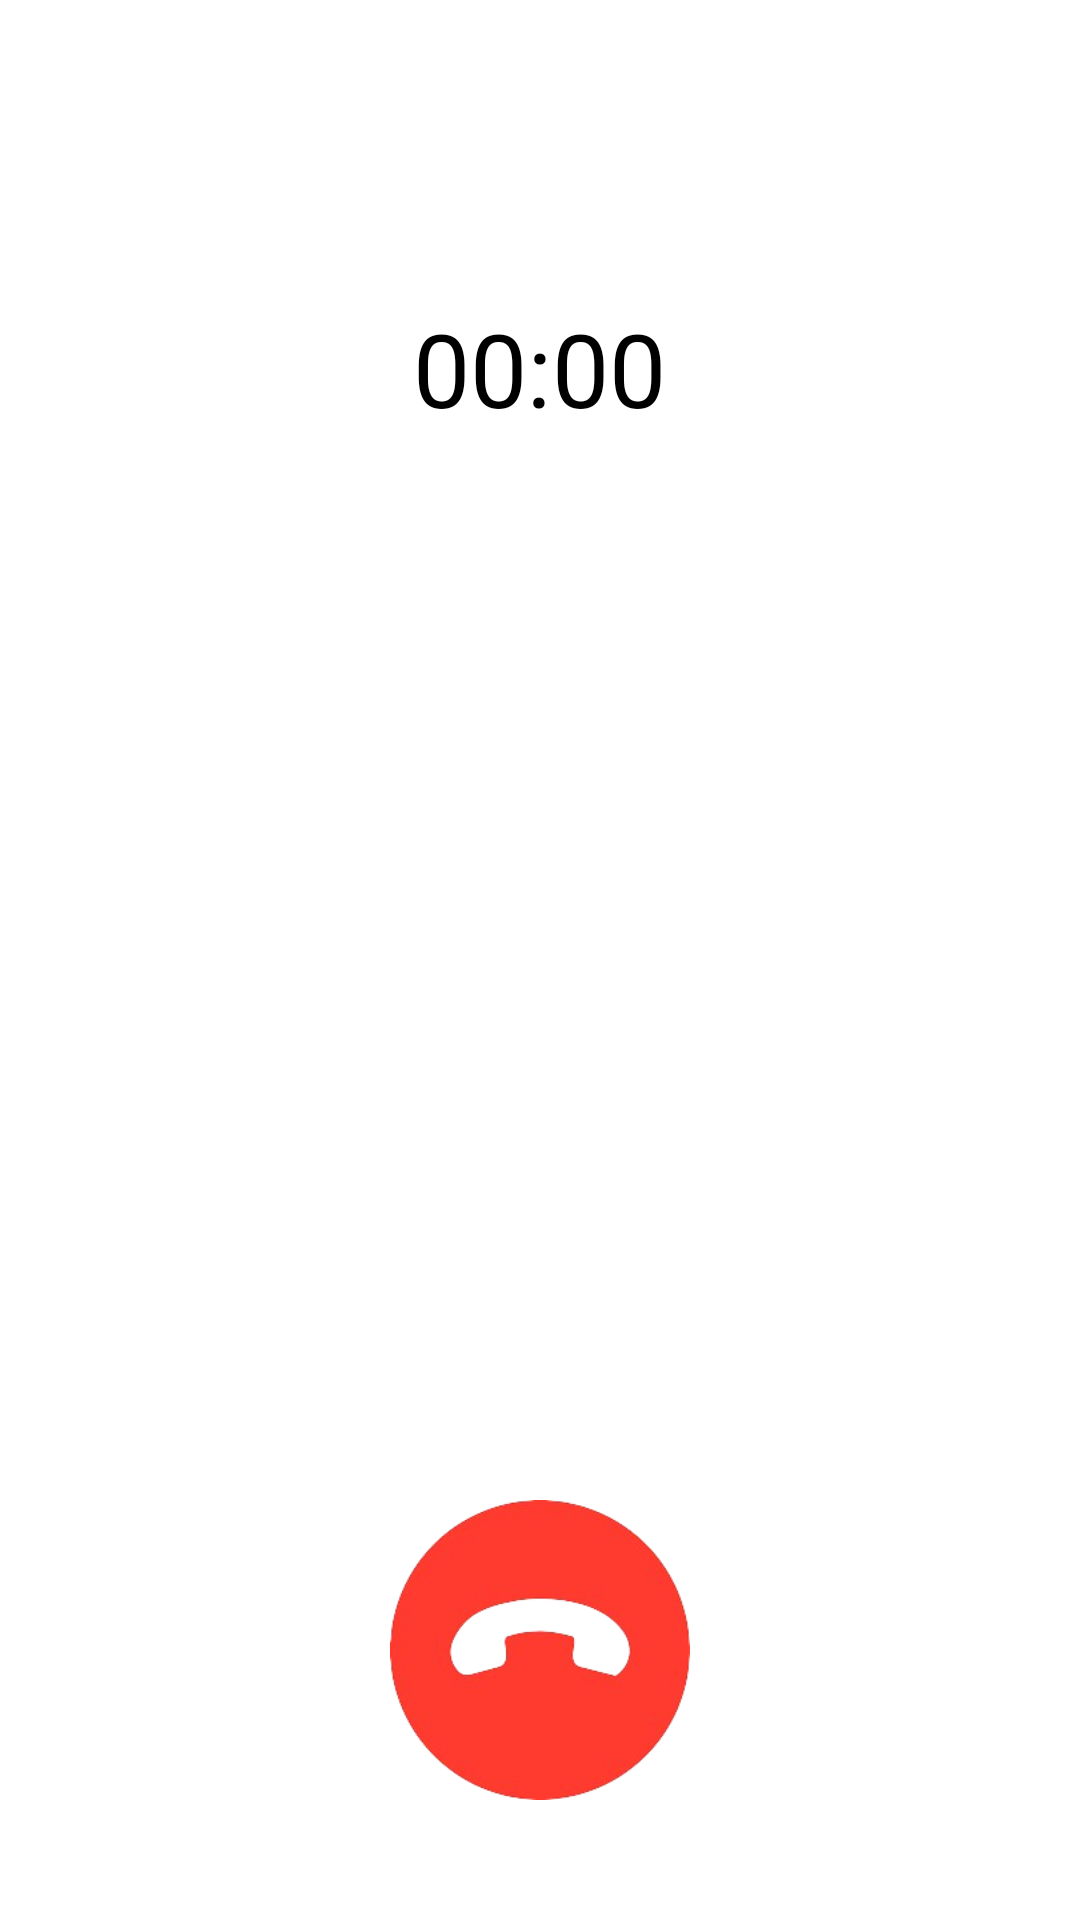

Screen size 1080px×1920px. Icon name, then its center in pixels as [x,y]:
cut call: [540,1650]
